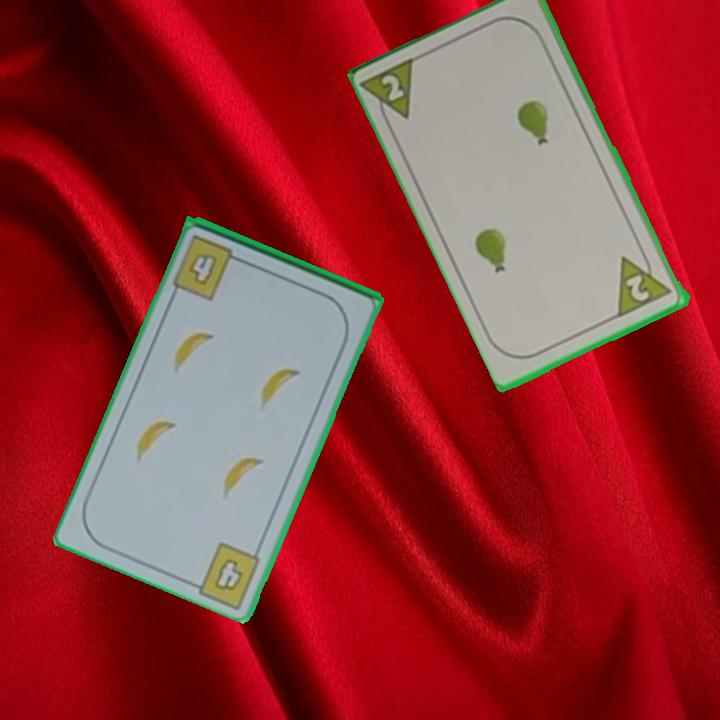2p: (360, 53, 421, 132), (614, 245, 675, 320)
4b: (169, 231, 248, 303), (211, 555, 246, 595)
